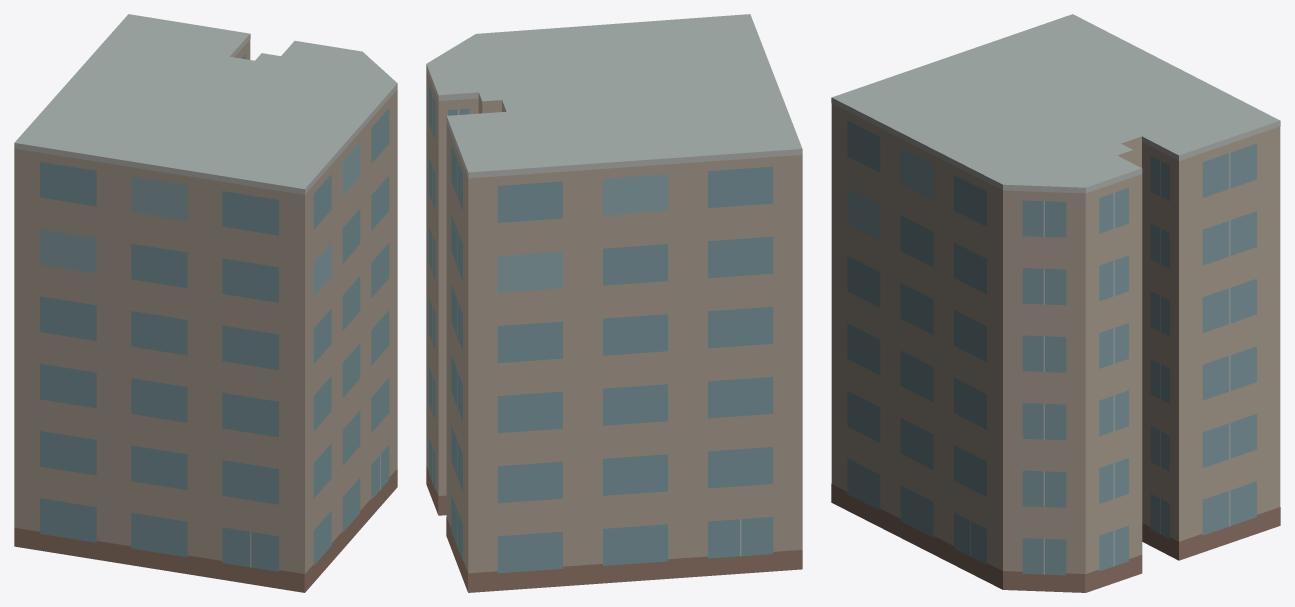
The model's file is survey-upis-32867691.glb.
3 views of the same model, side by side, from view 1: azimuth 30°, elevation 25°; view 2: azimuth 150°, elevation 25°; view 3: azimuth 270°, elevation 25° (orthographic). The views are drawn at different scales.
Visible parts, largest first — view 1: survey-upis-32867691.tmp; view 2: survey-upis-32867691.tmp; view 3: survey-upis-32867691.tmp.
Boxes of the visible parts, x1,y1,x2,y2 form: survey-upis-32867691.tmp: [14, 14, 397, 592]; survey-upis-32867691.tmp: [426, 14, 802, 592]; survey-upis-32867691.tmp: [831, 14, 1280, 592].
Size of the model in its own units: 15.92 by 17.3 by 17.38.
